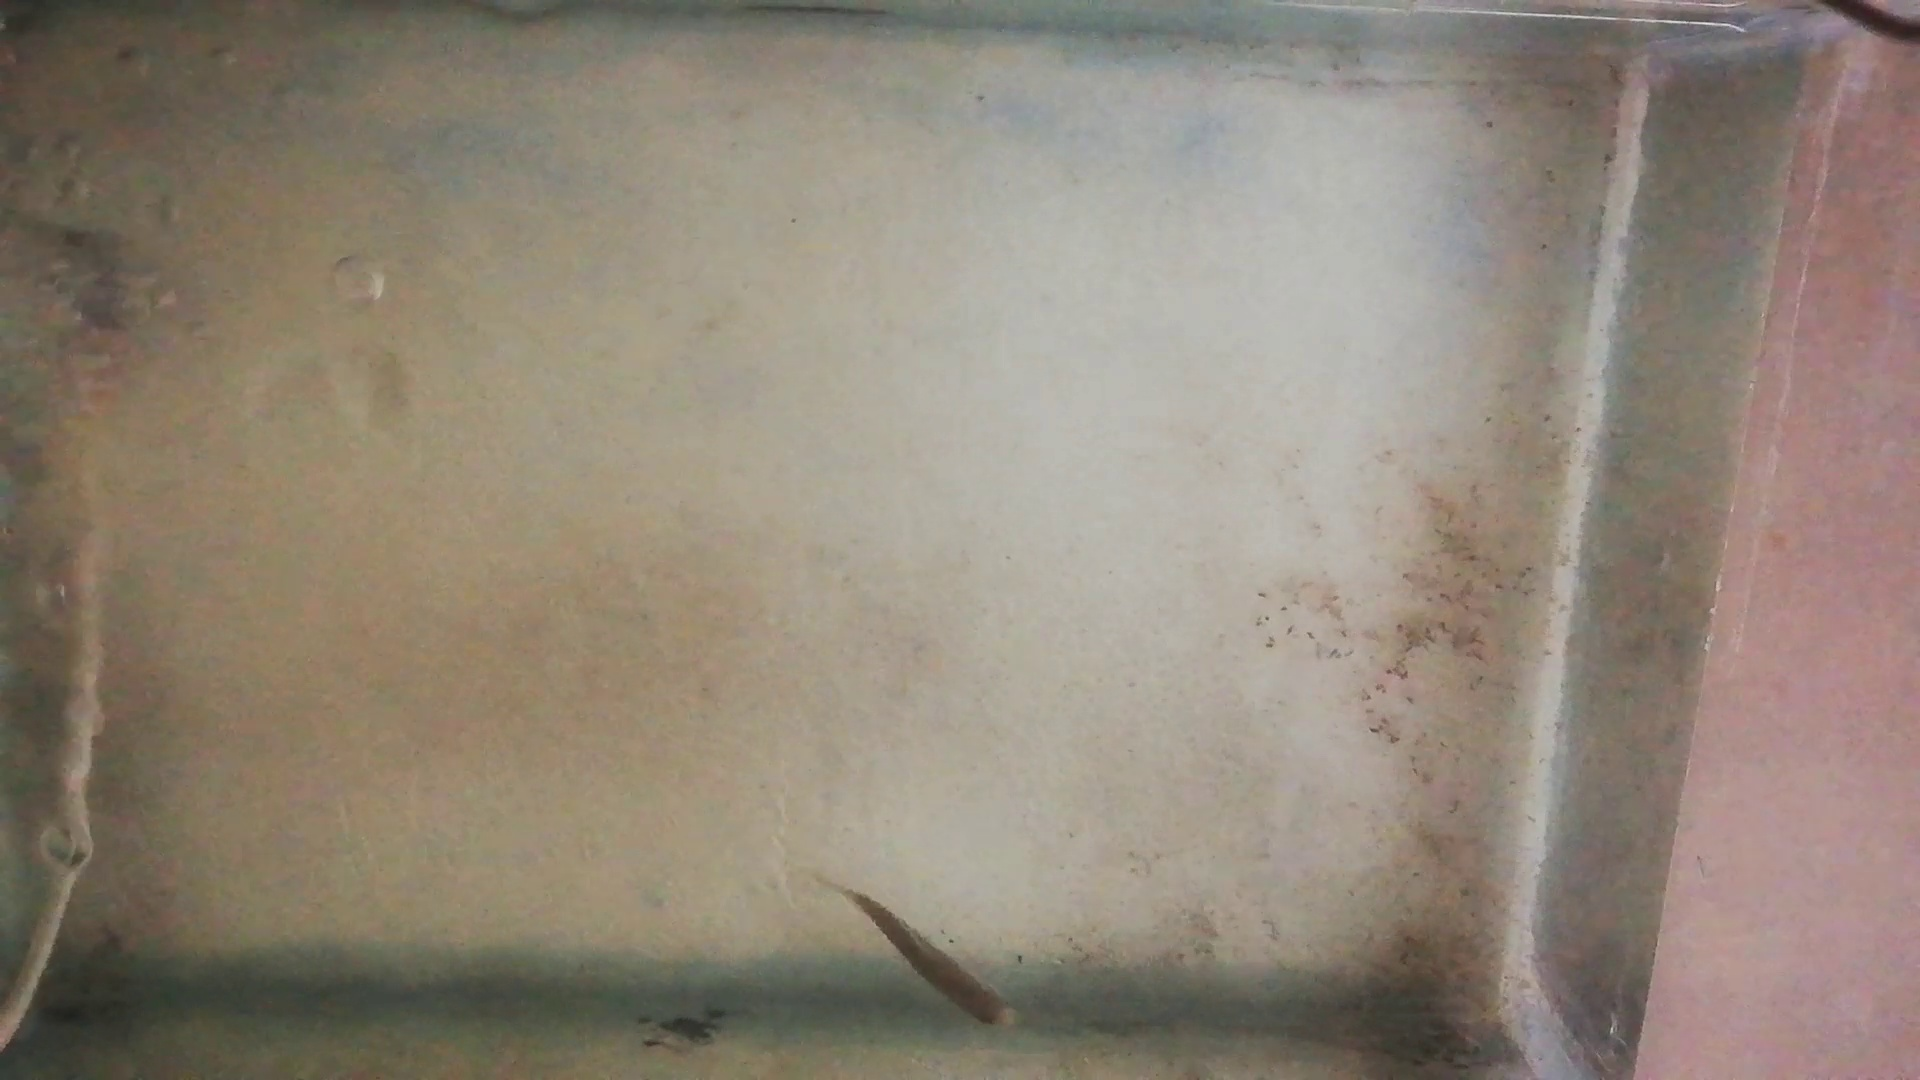fish: (839, 886, 1019, 1033)
